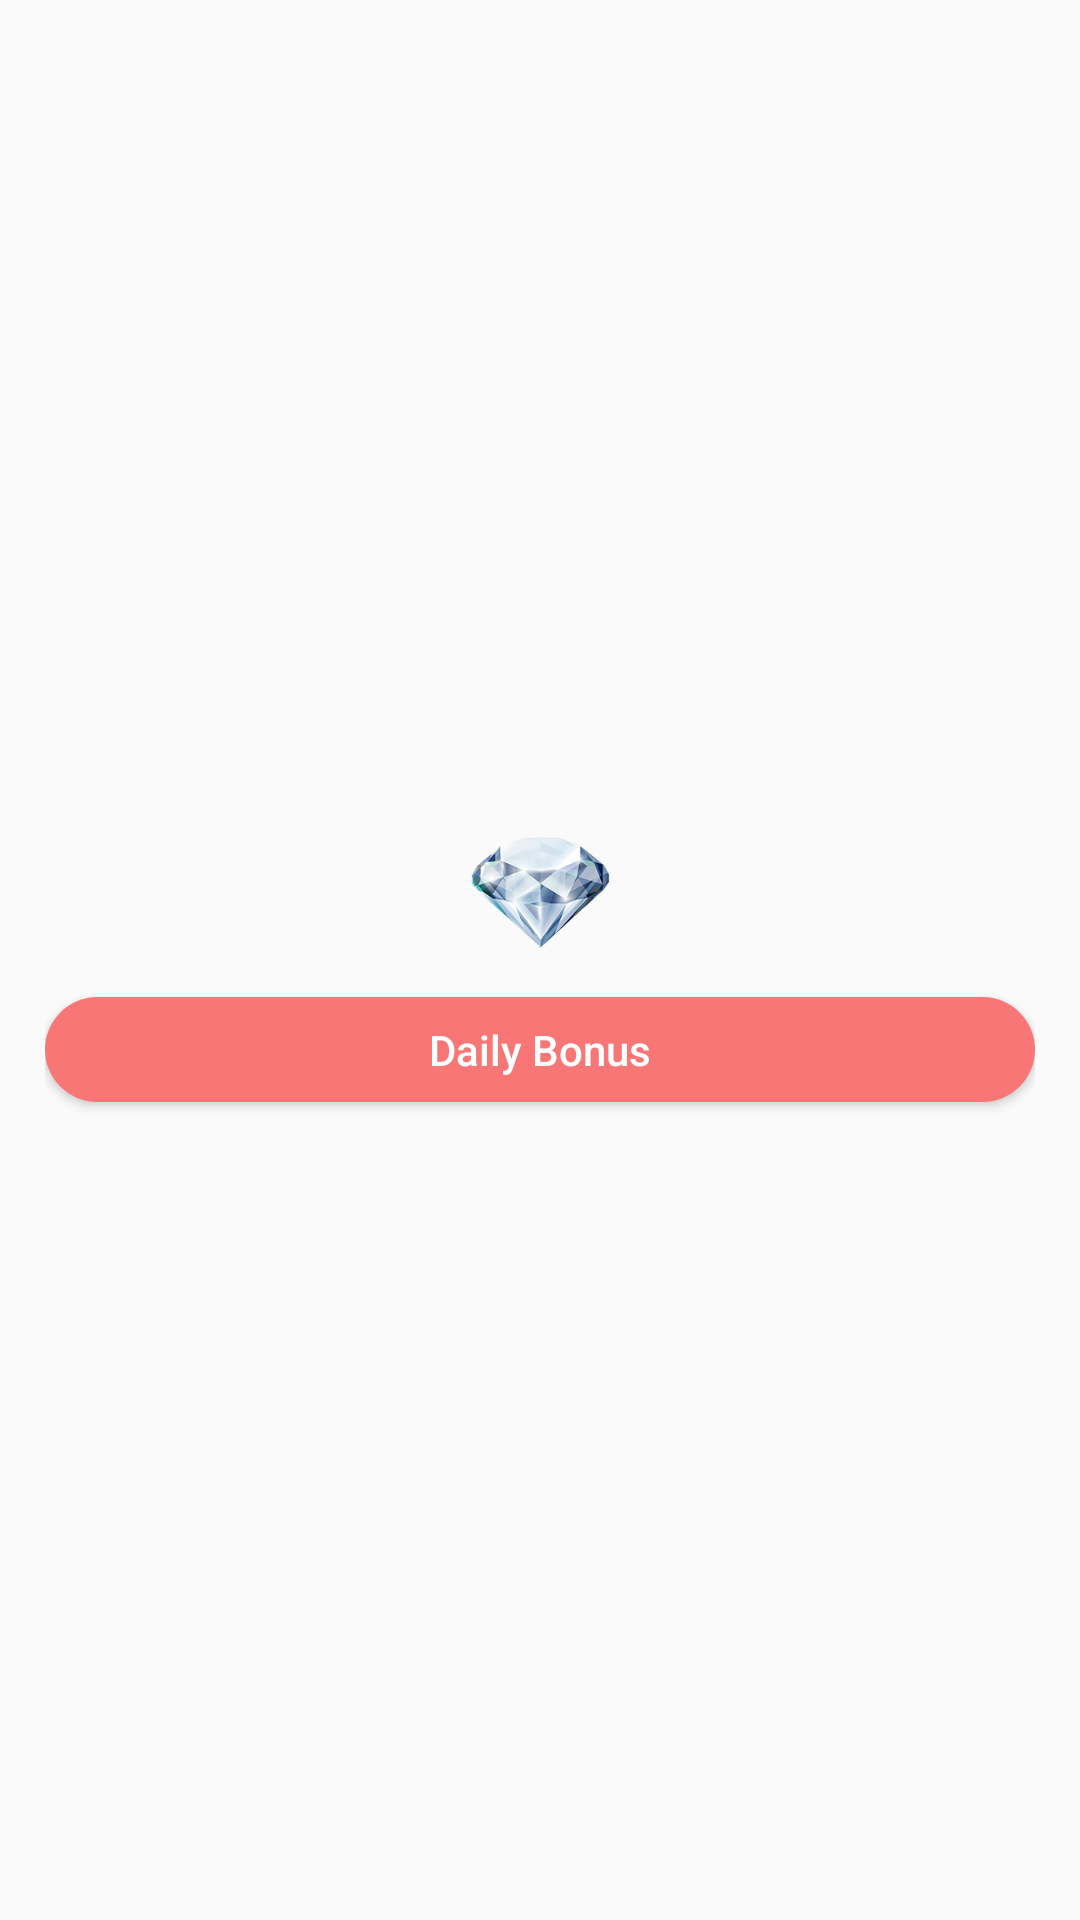

Named icons in this screenshot (1080px×1920px) and their centers, [x,y]:
diamond: [540,893]
